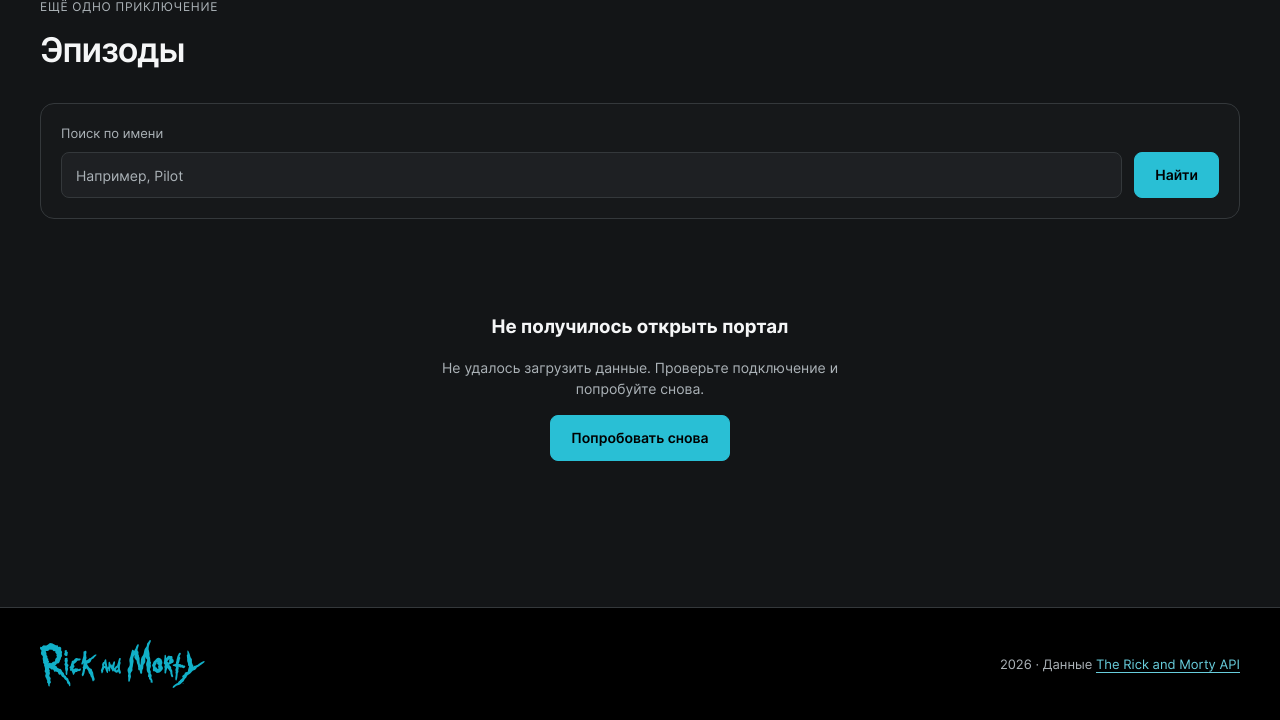
Scenario: Rick and Morty app › offers a retry after network failure and renders the recovered episodes
This screenshot has width=1280, height=720.
(page scrolled)
expect the message is shown: met, box [442,315,838,461]
Click the button "Попробовать снова".
click(640, 438)  # box [550,415,730,461]
(page scrolled)
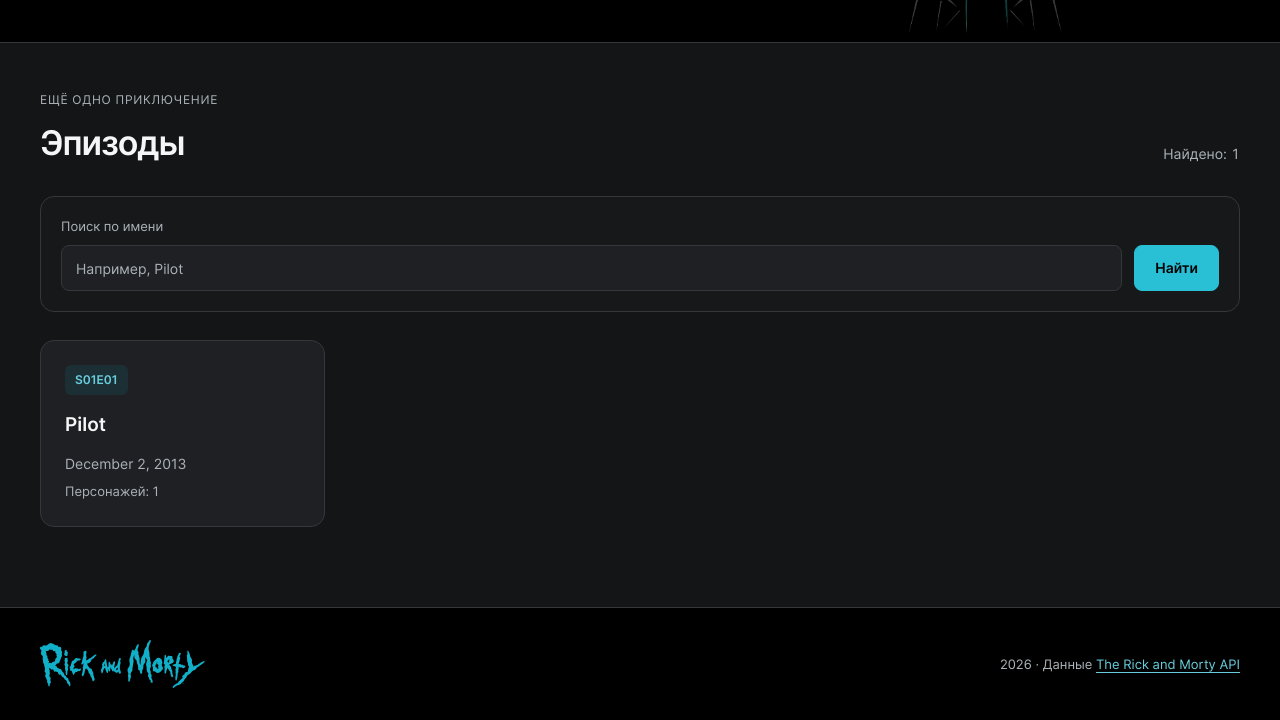
expect the heading "Pilot" is shown: met, box [65,411,106,439]
expect the message "Не получилось открыть портал Не удалось загрузить данные. Проверьте подключение" is gone: met
